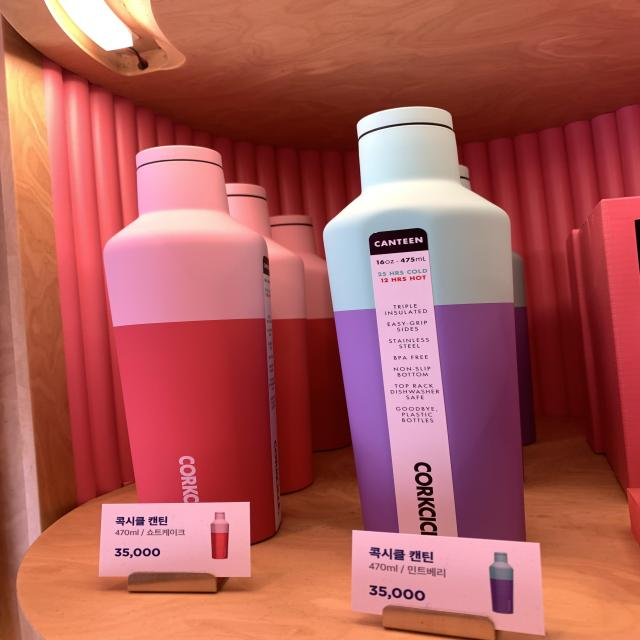bottle: (234, 139, 401, 640), (71, 188, 218, 640)
